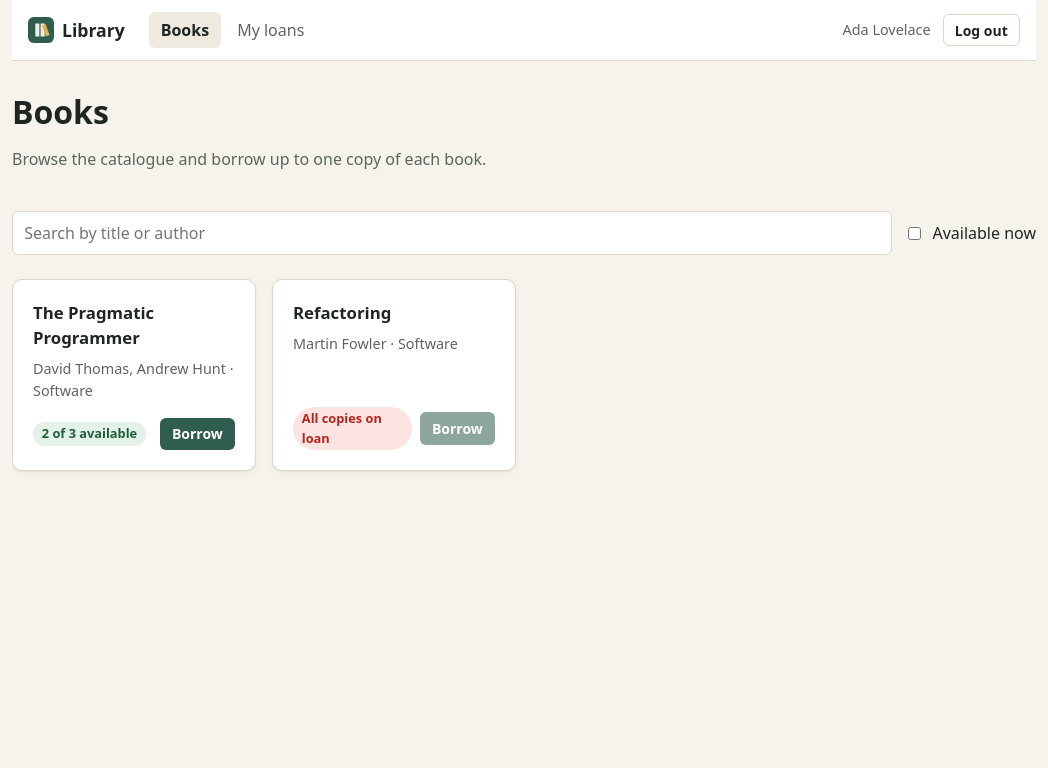
Test case: borrowing › shows the API's reason when a borrow is refused
Step 1. Click the button with aria-label "Borrow The Pragmatic Programmer" → x=197, y=434, box left=160, top=418, right=235, bottom=450
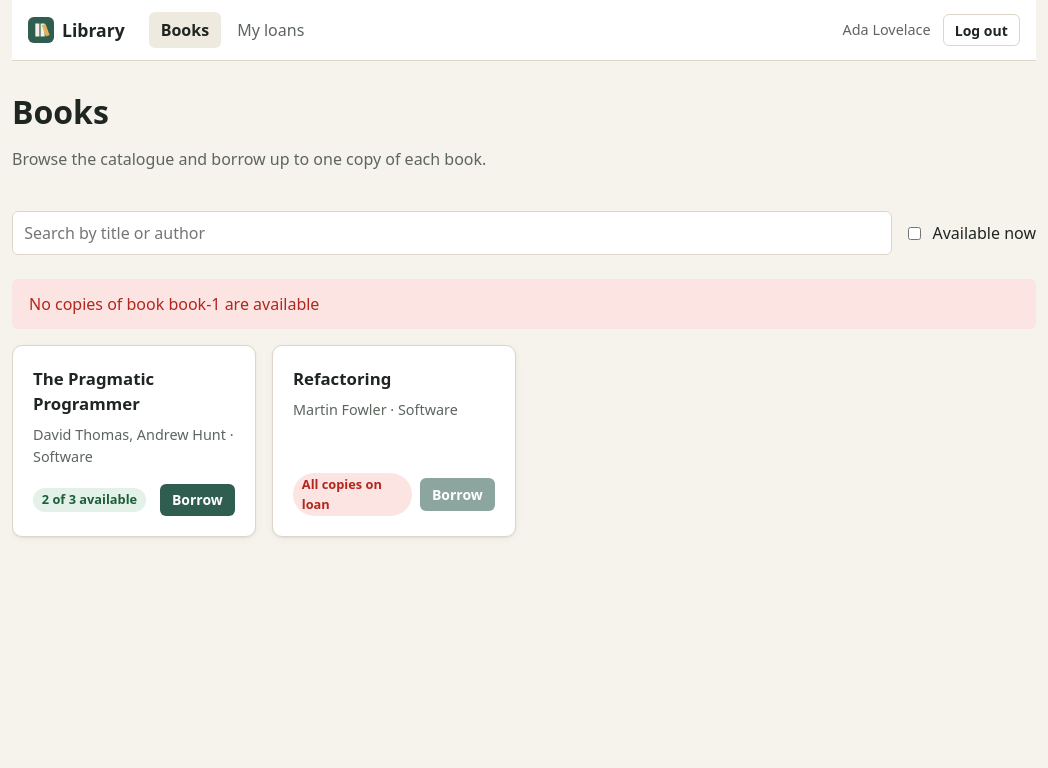
Now the message reads "No copies of book book-1 are available", box left=29, top=293, right=319, bottom=315
